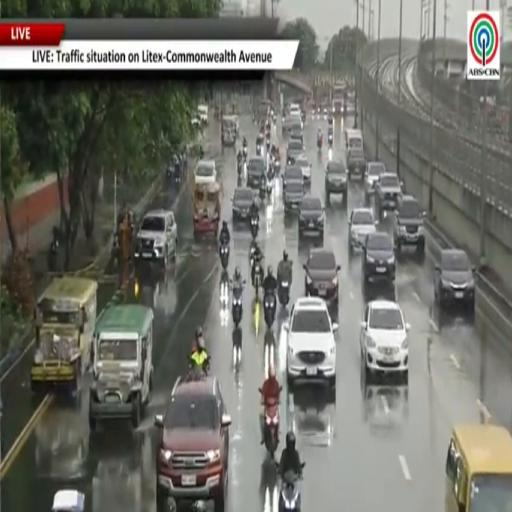car: (155, 373, 231, 511), (283, 298, 338, 390), (360, 300, 410, 381), (434, 249, 475, 312), (361, 379, 408, 433), (135, 210, 177, 265), (303, 248, 340, 303), (362, 232, 396, 285), (394, 196, 425, 254), (376, 172, 402, 219), (349, 208, 376, 250), (299, 197, 324, 239), (325, 160, 347, 201), (364, 162, 386, 197), (51, 489, 85, 511), (233, 187, 254, 221), (283, 181, 304, 213), (346, 148, 366, 180), (247, 156, 265, 188), (195, 160, 217, 184), (283, 165, 303, 189), (295, 155, 311, 183), (287, 139, 304, 165), (282, 116, 300, 135), (290, 121, 303, 146), (197, 105, 208, 124), (289, 104, 301, 118)
jeepney: (89, 304, 153, 429), (31, 277, 97, 391), (92, 431, 154, 510), (35, 408, 88, 482), (193, 183, 220, 235), (222, 116, 238, 146)
motorcycle: (262, 398, 279, 458), (279, 471, 300, 511), (264, 293, 276, 328), (232, 287, 242, 327), (252, 261, 263, 295), (233, 326, 242, 364), (189, 357, 209, 374), (111, 231, 120, 266), (278, 280, 290, 306), (219, 243, 229, 269), (250, 237, 255, 269), (267, 171, 273, 197), (251, 217, 258, 239), (259, 180, 266, 200), (237, 161, 243, 177), (271, 111, 277, 124), (318, 137, 322, 151), (266, 138, 270, 152), (256, 144, 261, 155), (301, 111, 305, 124), (328, 134, 332, 147), (243, 147, 247, 158)
truck: (332, 82, 346, 115)
